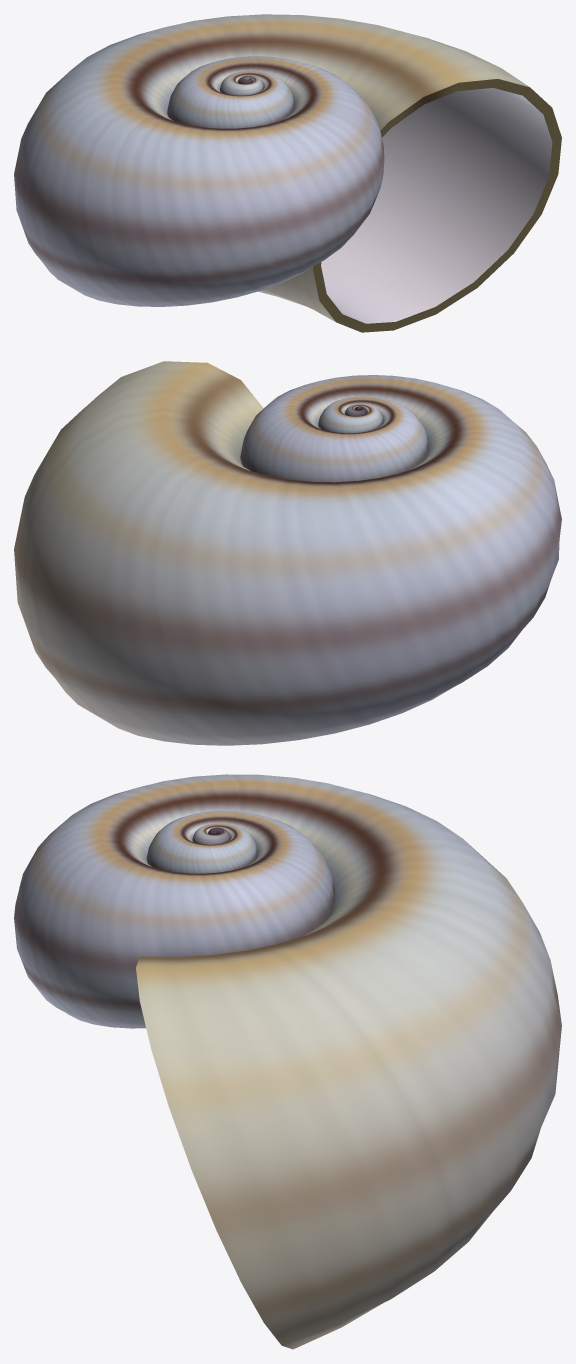
The model's file is SpiralShell.fbx.
3 renders of one model, top to bottom at view 1: azimuth 30°, elevation 25°; view 2: azimuth 150°, elevation 25°; view 3: azimuth 270°, elevation 25°, orthographic. The views are drawn at different scales.
Parts seen in each view (by area): view 1: SpiralShell; view 2: SpiralShell; view 3: SpiralShell.
Part boxes in pixels (bbox=[...]): SpiralShell: bbox=[14, 14, 561, 332]; SpiralShell: bbox=[14, 361, 561, 745]; SpiralShell: bbox=[14, 774, 561, 1349].
Size of the model in its own units: 0.1055 by 0.0649 by 0.0815.
1 material, 1 textured.
